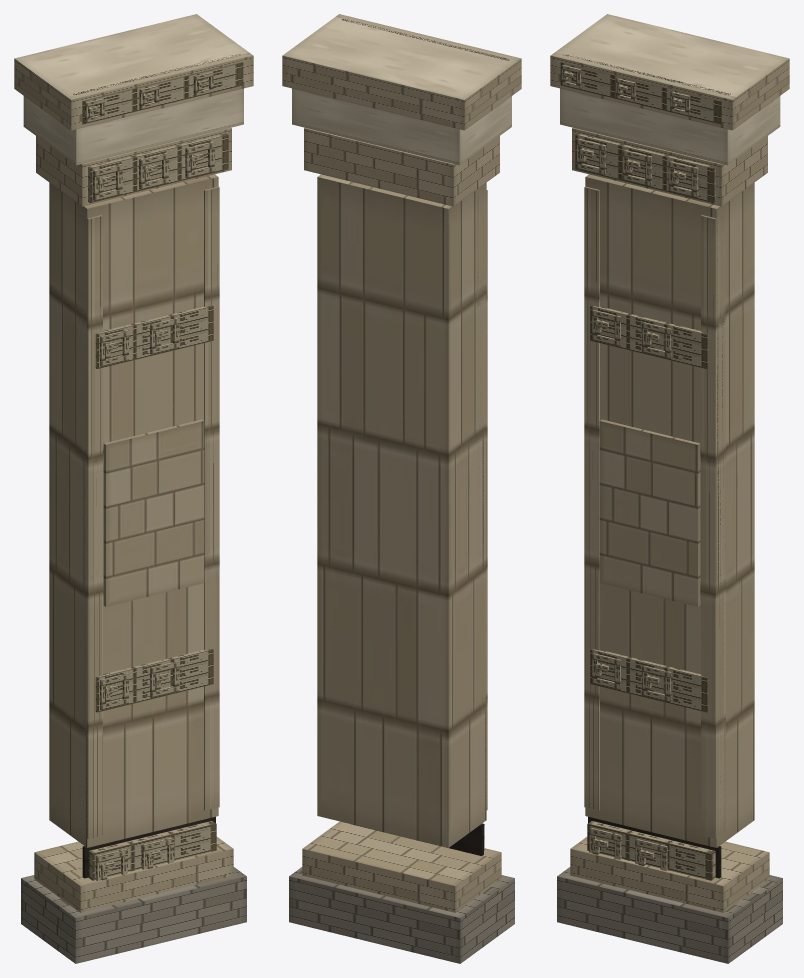
Rendered from ae_duel_stone_pillar_lod0.glb.
3 renders of one model, left to right at view 1: azimuth 30°, elevation 25°; view 2: azimuth 150°, elevation 25°; view 3: azimuth 330°, elevation 25°, orthographic.
Parts seen in each view (by area): view 1: ae_duel_stone_pillar_lod0; view 2: ae_duel_stone_pillar_lod0; view 3: ae_duel_stone_pillar_lod0.
Boxes of the visible parts, x1,y1,x2,y2 form: ae_duel_stone_pillar_lod0: (14, 14, 253, 963); ae_duel_stone_pillar_lod0: (282, 14, 521, 963); ae_duel_stone_pillar_lod0: (550, 14, 789, 963).
Size of the model in its own units: 0.9998 by 4.54 by 0.567.
1 material, 1 textured.
